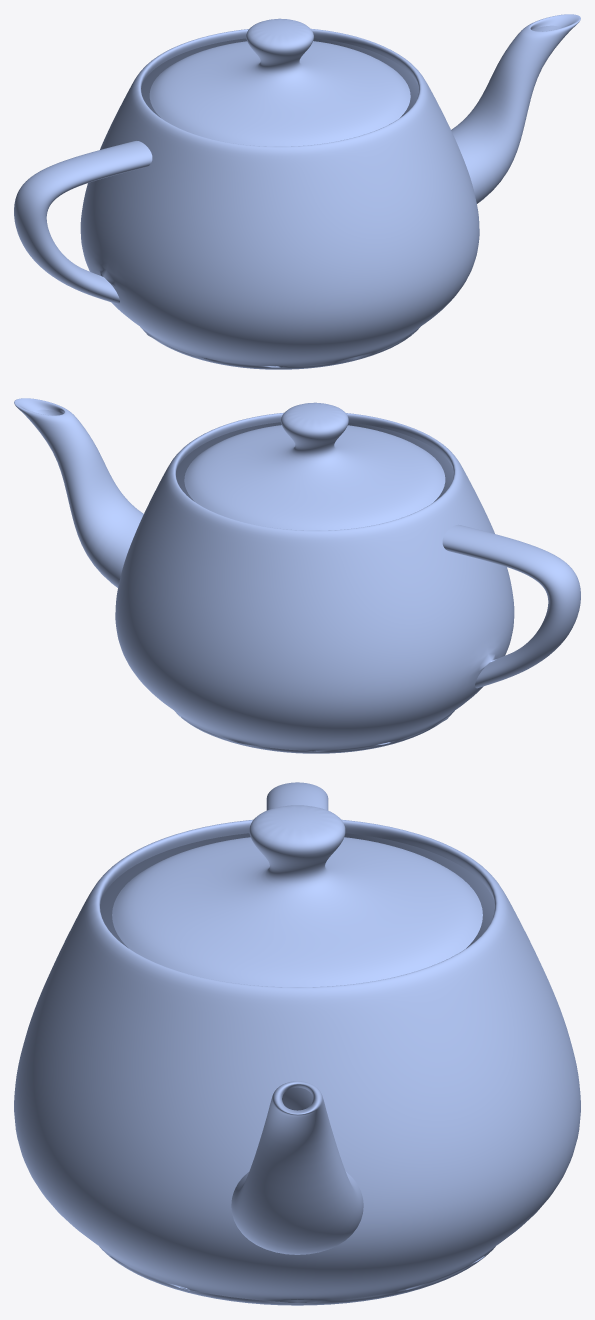
The model's file is Teapot.glb.
3 views of the same model, one above another, from view 1: azimuth 30°, elevation 25°; view 2: azimuth 150°, elevation 25°; view 3: azimuth 270°, elevation 25° (orthographic). The views are drawn at different scales.
Parts seen in each view (by area): view 1: Suzanne.001; view 2: Suzanne.001; view 3: Suzanne.001.
Part boxes in pixels (x1,y1,x2,y2): Suzanne.001: (14,14,580,369); Suzanne.001: (14,398,580,753); Suzanne.001: (14,782,580,1305).
Size of the model in its own units: 6.38 by 3.14 by 3.91.
1 material, 1 textured.
